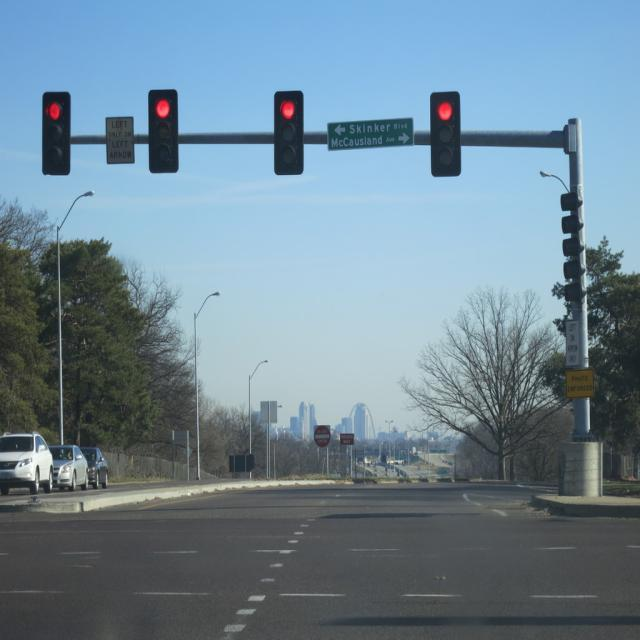off traffic light: (560, 189, 583, 302)
traffic light: (271, 90, 305, 177), (148, 87, 181, 176), (431, 91, 462, 178), (42, 91, 72, 176)
